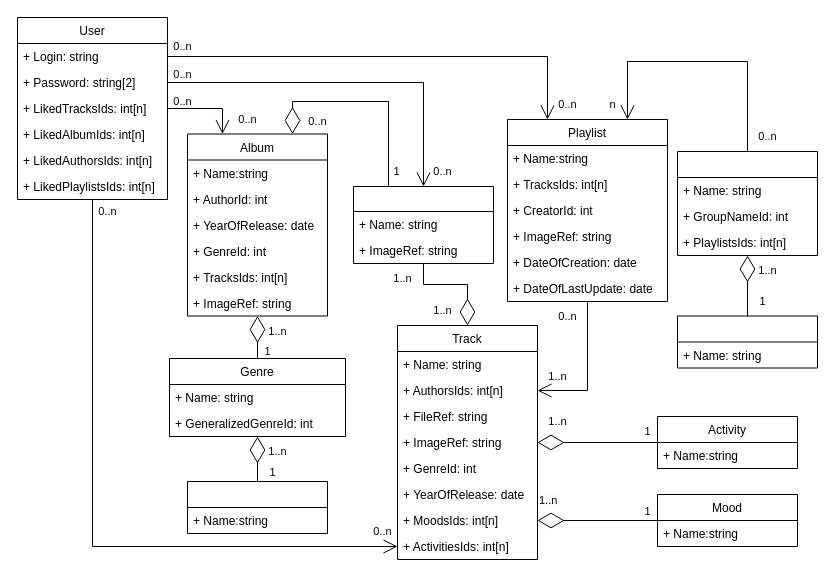
Some shapes in this 835 by 580 pixel diagram are drawn without their labels. The shapes that lost their labels are listed below. From the top down, each one's box as (x1, y1, x2, y2) in pixels, then its label:
(676, 150, 818, 256): Compilation
(352, 186, 494, 264): Author
(676, 315, 818, 368): GroupNames
(186, 480, 328, 534): GeneralizedGenre
